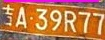A: (16, 7, 26, 28)
